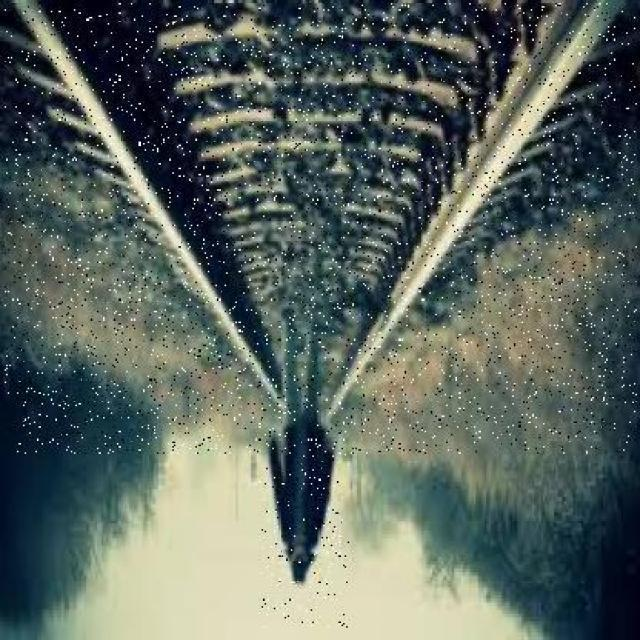rail: (6, 4, 637, 454)
